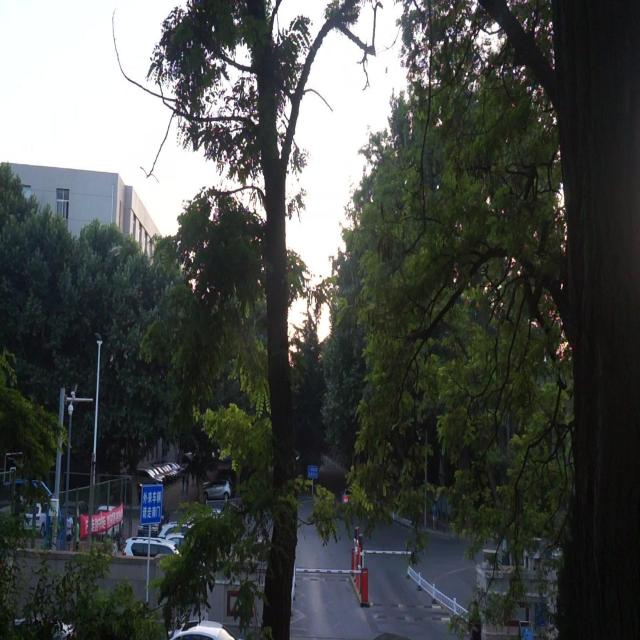UAV: (108, 241, 123, 257)
